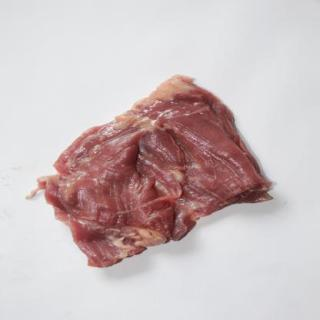Daging Sapi: (35, 76, 272, 270)
